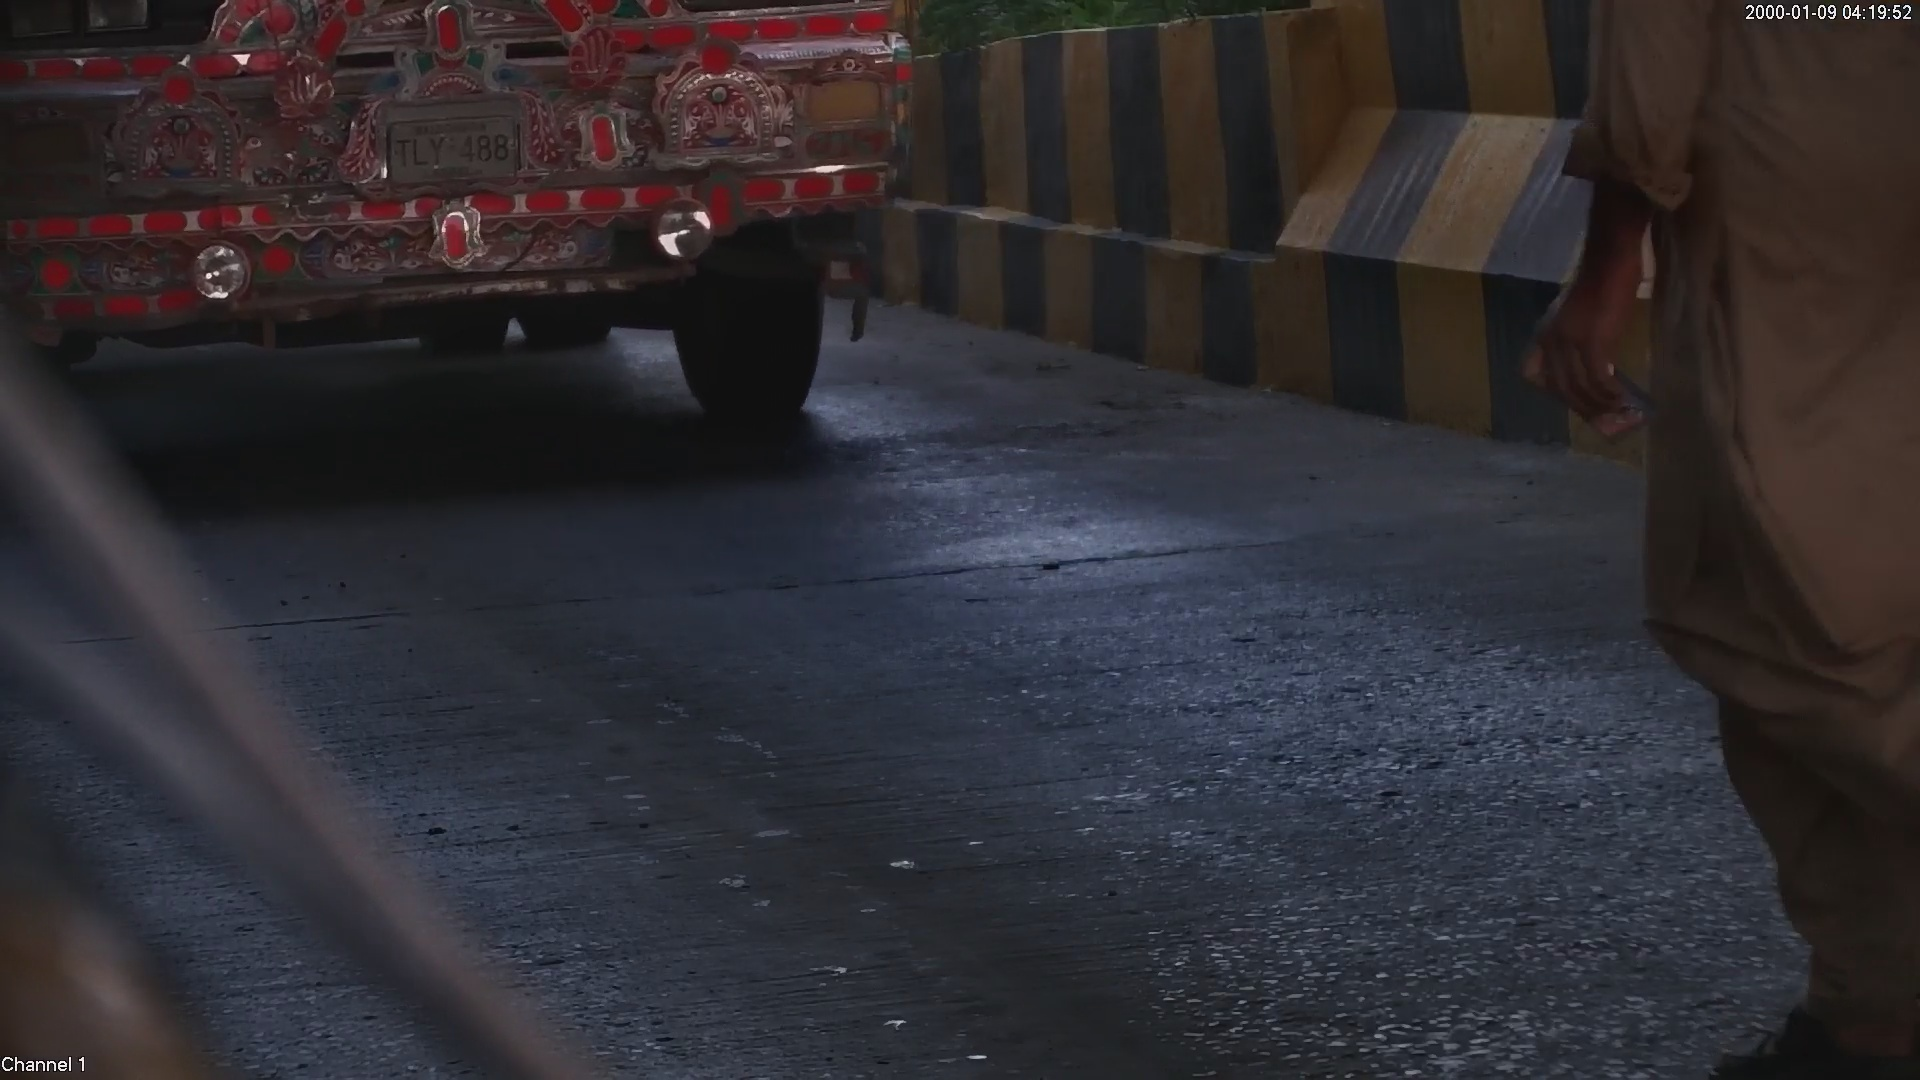Number_Plate: (367, 103, 537, 188)
